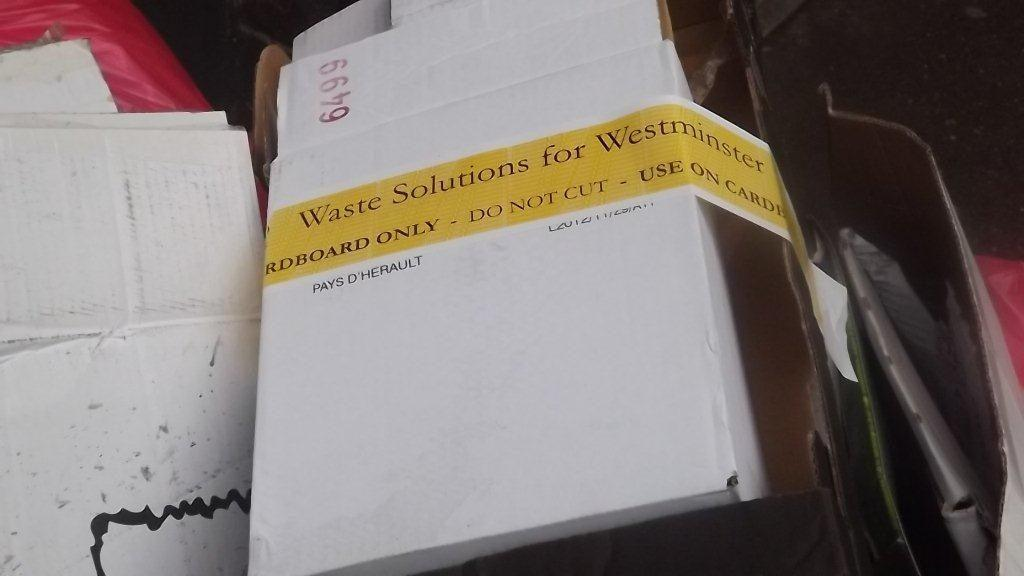cardboard: (252, 0, 786, 576), (0, 46, 267, 576)
